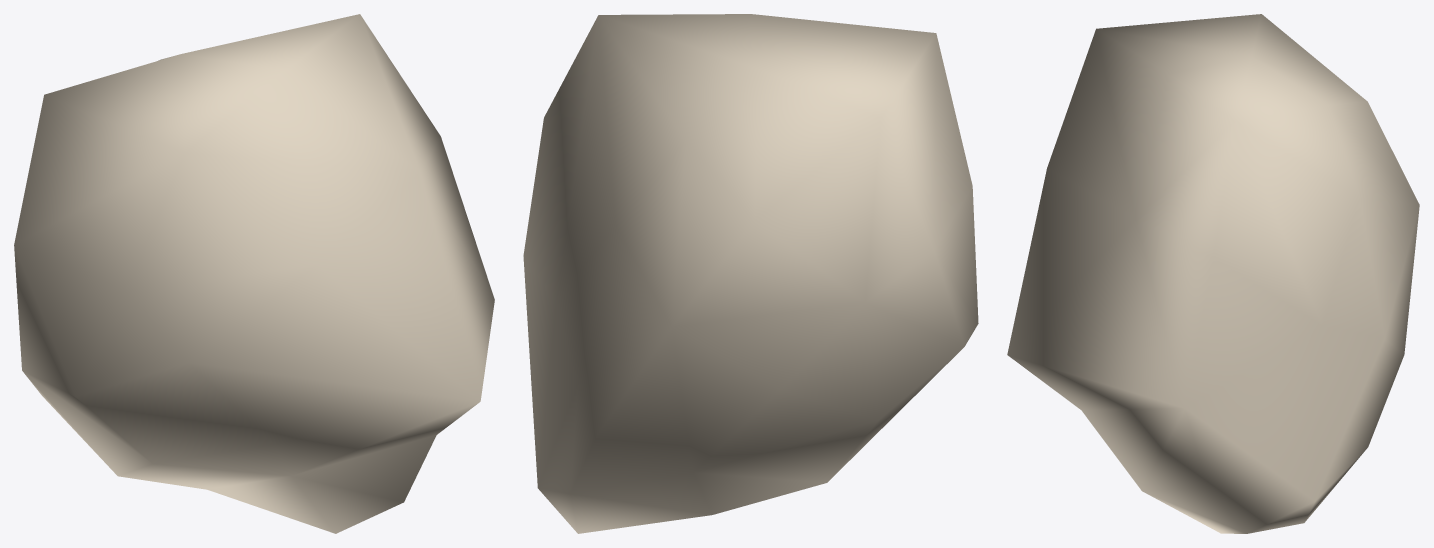
File: weapon-base.glb
The picture shows the model from 3 angles, left to right: view 1: azimuth 30°, elevation 25°; view 2: azimuth 150°, elevation 25°; view 3: azimuth 270°, elevation 25°; orthographic projection. The views are drawn at different scales.
Size of the model in its own units: 0.3054 by 0.3219 by 0.2826.
